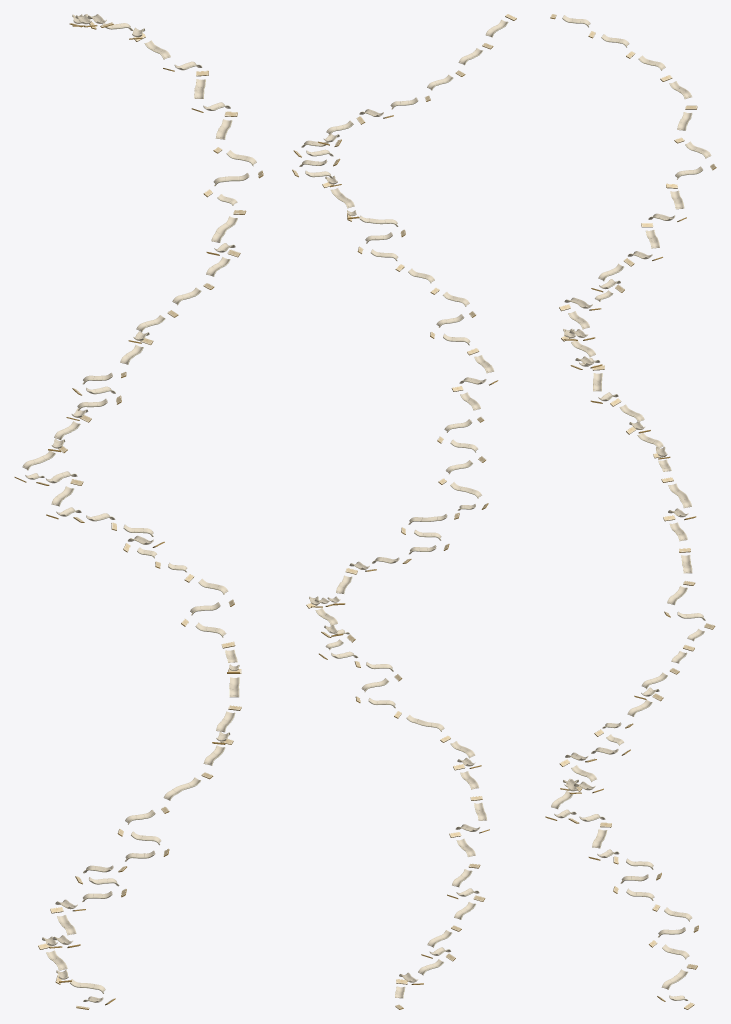
Rendered from C-route-v027-00.glb.
3 renders of one model, left to right at view 1: azimuth 30°, elevation 25°; view 2: azimuth 150°, elevation 25°; view 3: azimuth 270°, elevation 25°, orthographic. The views are drawn at different scales.
Size of the model in its own units: 0.4689 by 2.16 by 0.3453.
5 materials, 1 textured.
